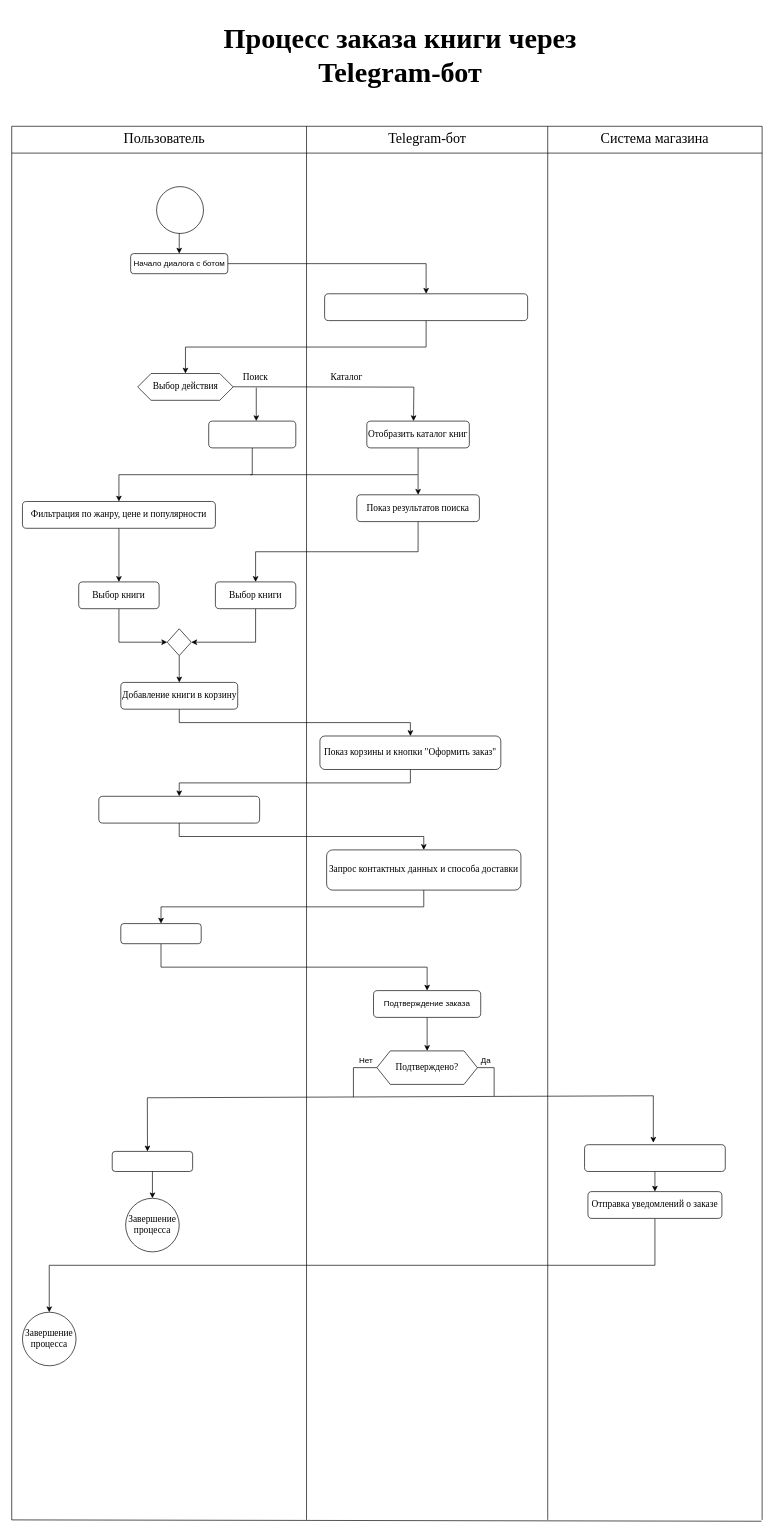
Some shapes in this 775 by 1534 pixel diagram are drawn without their labels. Here are the shapes that lost their labels. From the top down, the centre of each, then its label:
(x=179, y=209): Начало процесса
(x=426, y=307): Показ главного меню(Каталог, Поиск,Корзина,Заказы)
(x=252, y=434): Ввод ключевых слов
(x=179, y=809): Нажатие кнопки оформление заказа
(x=160, y=933): Ввод данных
(x=152, y=1161): Возврат в корзину
(x=654, y=1157): Сохранение заказа в БД
